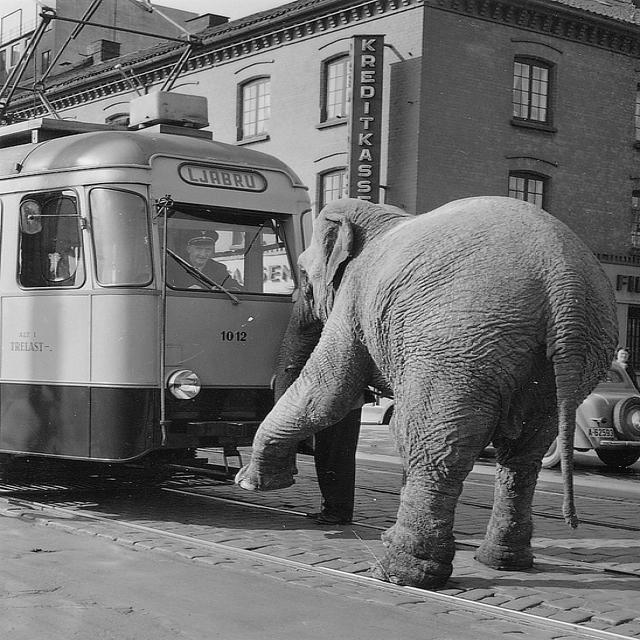Vehicle: (0, 93, 317, 488), (536, 361, 640, 476)
